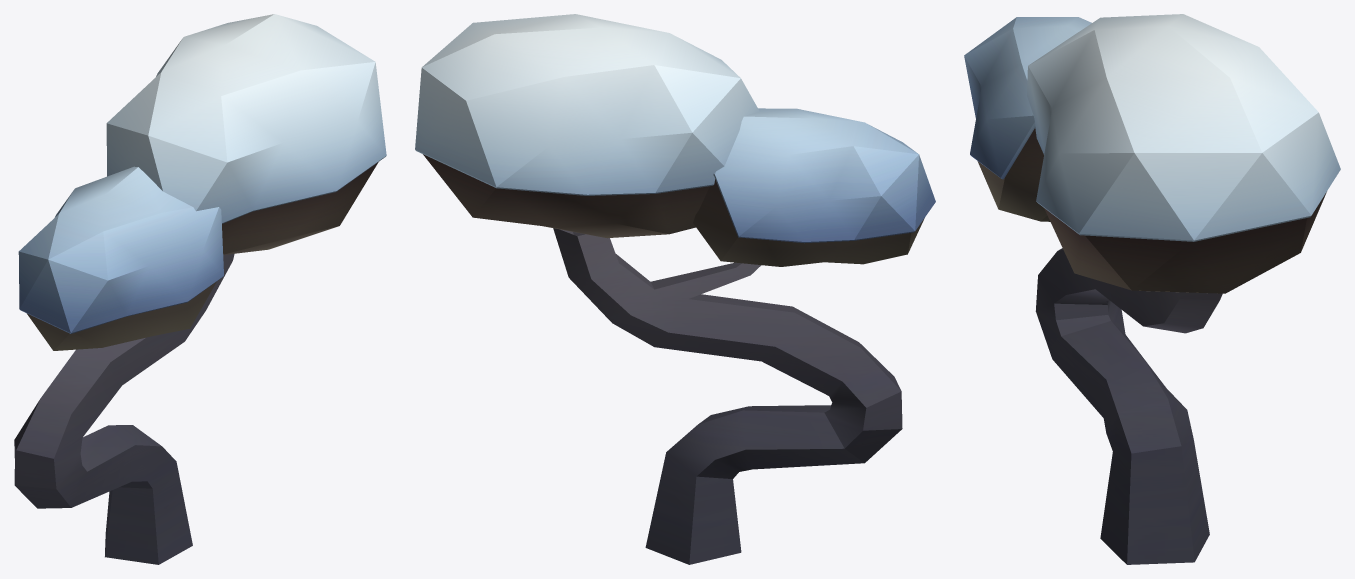
Rendered from SM_OakTree_01.fbx.
3 views of the same model, side by side, from view 1: azimuth 30°, elevation 25°; view 2: azimuth 150°, elevation 25°; view 3: azimuth 270°, elevation 25° (orthographic). The views are drawn at different scales.
Parts seen in each view (by area): view 1: Laub-2; view 2: Laub-2; view 3: Laub-2.
Part boxes in pixels (box(x1,y1,x2,y2)): Laub-2: box(14, 14, 386, 564); Laub-2: box(415, 14, 935, 564); Laub-2: box(964, 14, 1340, 564).
Bounding box in the file's own units: 728 × 808 × 487.
1 material, 1 textured.
